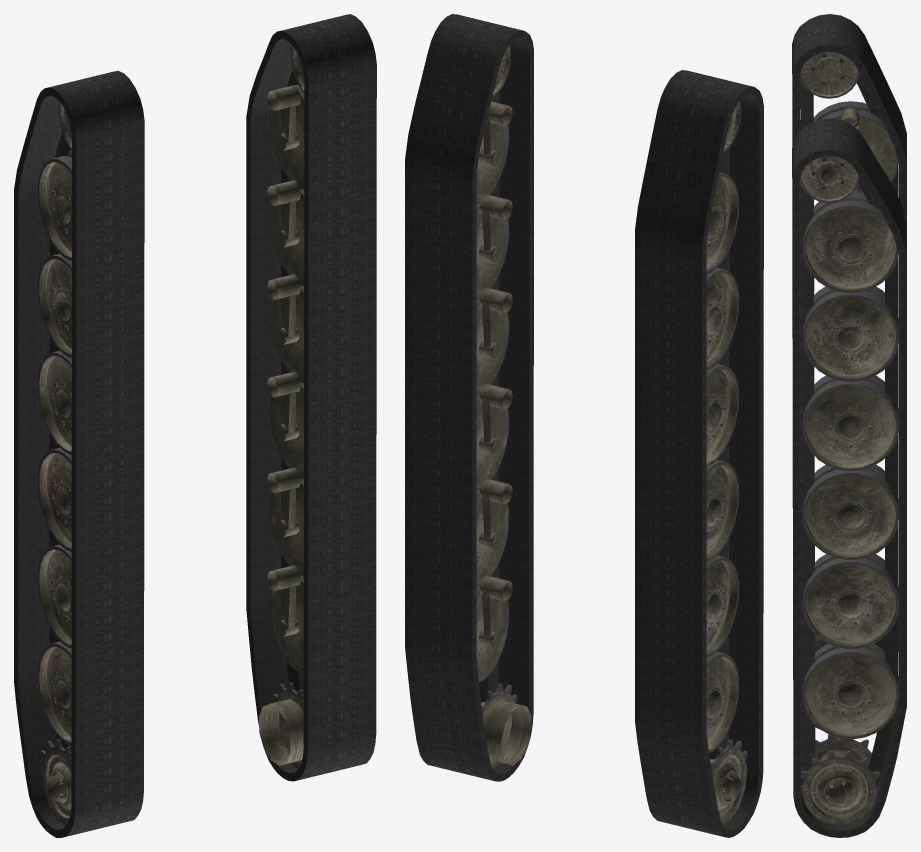
Rendered from Chassis.glb.
3 views of the same model, side by side, from view 1: azimuth 30°, elevation 25°; view 2: azimuth 150°, elevation 25°; view 3: azimuth 270°, elevation 25° (orthographic). The views are drawn at different scales.
Visible parts, largest first — view 1: set_0_group_0, set_1_group_0, set_3_group_0, set_2_group_0; view 2: set_0_group_0, set_1_group_0, set_3_group_0, set_2_group_0; view 3: set_3_group_0, set_1_group_0, set_0_group_0, set_2_group_0.
Boxes of the visible parts, x1,y1,x2,y2 form: set_0_group_0: (14,70,144,837); set_1_group_0: (246,14,376,781); set_3_group_0: (259,45,304,768); set_2_group_0: (37,102,71,825); set_0_group_0: (635,70,763,837); set_1_group_0: (405,14,533,781); set_3_group_0: (476,45,531,768); set_2_group_0: (706,101,747,825); set_3_group_0: (800,156,898,825); set_1_group_0: (792,118,906,837); set_0_group_0: (792,14,906,729); set_2_group_0: (800,52,898,652).
Size of the model in its own units: 2.89 by 6.82 by 1.03.
4 materials, 4 textured.
